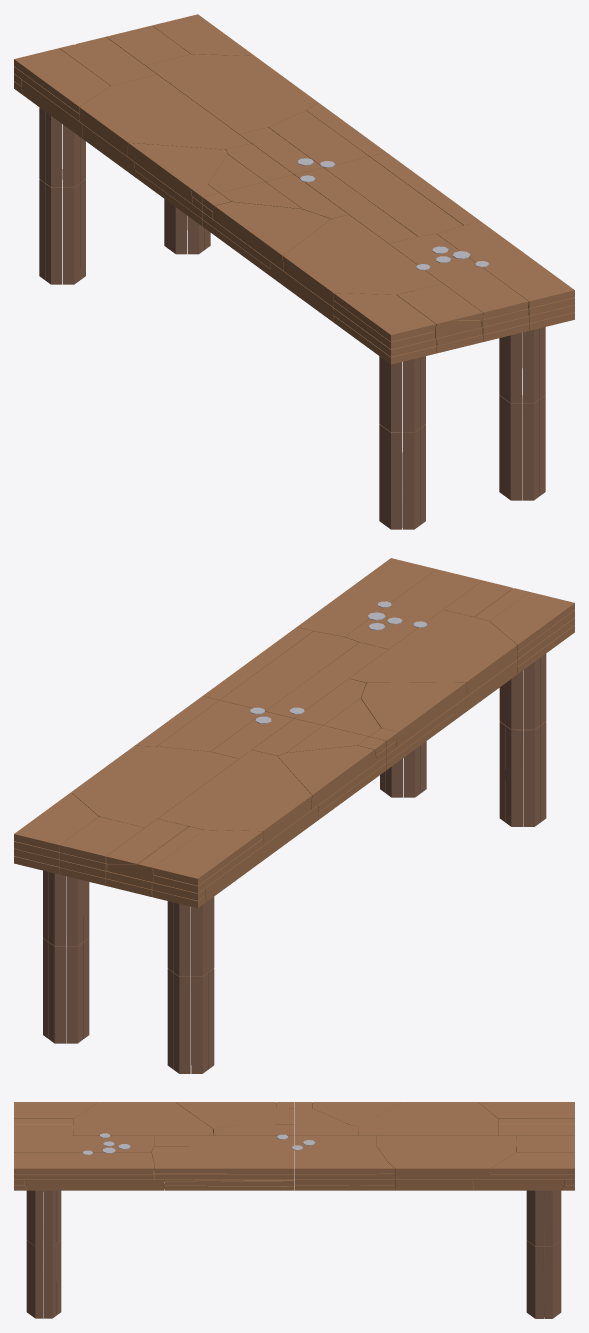
Rendered from TableCoinsBroken.fbx.
3 renders of one model, top to bottom at view 1: azimuth 30°, elevation 25°; view 2: azimuth 150°, elevation 25°; view 3: azimuth 270°, elevation 25°, orthographic. The views are drawn at different scales.
Parts seen in each view (by area): view 1: Cube.059_cell.003_cell.003, Cube.059_cell.001_cell.003, Cube.059_cell.007_cell.004, Cube.059_cell.005_cell, Cube.059_cell.005_cell.003, Cube.059_cell.005_cell.007, Cube.059_cell.001_cell.005, Cube.059_cell.003_cell.009, Cube.059_cell.003_cell.011, Cube.059_cell.001_cell.004, Cube.059_cell.005_cell.006, Cube.059_cell.007_cell.007 (+35 smaller); view 2: Cube.059_cell.001_cell.003, Cube.059_cell.003_cell.003, Cube.059_cell.007_cell.004, Cube.059_cell.005_cell.007, Cube.059_cell.005_cell, Cube.059_cell.001_cell.005, Cube.059_cell.005_cell.003, Cube.059_cell.003_cell.011, Cube.059_cell.003_cell.009, Cube.059_cell.005_cell.006, Cube.059_cell.007_cell.007, Cube.059_cell.001_cell.004 (+35 smaller); view 3: Cube.059_cell.007_cell.004, Cube.059_cell.003_cell.003, Cube.059_cell.001_cell.003, Cube.059_cell.005_cell, Cube.059_cell.005_cell.007, Cube.059_cell.005_cell.003, Cube.059_cell.001_cell.005, Cube.059_cell.005_cell.008, Cube.059_cell.004_cell.008, Cube.059_cell.007_cell.001, Cube.059_cell.005_cell.006, Cube.059_cell.003_cell.011 (+38 smaller).
Boxes of the visible parts, bbox=[...] form: Cube.059_cell.003_cell.003: bbox=[79, 74, 250, 155]; Cube.059_cell.001_cell.003: bbox=[283, 214, 442, 306]; Cube.059_cell.007_cell.004: bbox=[145, 54, 318, 134]; Cube.059_cell.005_cell: bbox=[437, 221, 574, 308]; Cube.059_cell.005_cell.003: bbox=[389, 234, 528, 319]; Cube.059_cell.005_cell.007: bbox=[324, 156, 462, 236]; Cube.059_cell.001_cell.005: bbox=[213, 202, 330, 270]; Cube.059_cell.003_cell.009: bbox=[127, 143, 227, 203]; Cube.059_cell.003_cell.011: bbox=[14, 48, 110, 113]; Cube.059_cell.001_cell.004: bbox=[333, 293, 435, 341]; Cube.059_cell.005_cell.006: bbox=[295, 168, 417, 243]; Cube.059_cell.007_cell.007: bbox=[268, 110, 368, 167]; Cube.059_cell.001_cell.003: bbox=[349, 610, 517, 695]; Cube.059_cell.003_cell.003: bbox=[158, 750, 311, 845]; Cube.059_cell.007_cell.004: bbox=[71, 745, 238, 827]; Cube.059_cell.005_cell.007: bbox=[220, 631, 358, 711]; Cube.059_cell.005_cell: bbox=[297, 558, 436, 636]; Cube.059_cell.001_cell.005: bbox=[361, 682, 467, 747]; Cube.059_cell.005_cell.003: bbox=[345, 569, 482, 649]; Cube.059_cell.003_cell.011: bbox=[153, 830, 262, 885]; Cube.059_cell.003_cell.009: bbox=[277, 745, 375, 809]; Cube.059_cell.005_cell.006: bbox=[266, 642, 388, 718]; Cube.059_cell.007_cell.007: bbox=[157, 700, 260, 751]; Cube.059_cell.001_cell.004: bbox=[490, 592, 574, 651]; Cube.059_cell.007_cell.004: bbox=[376, 1135, 516, 1179]; Cube.059_cell.003_cell.003: bbox=[358, 1102, 497, 1142]; Cube.059_cell.001_cell.003: bbox=[73, 1102, 213, 1145]; Cube.059_cell.005_cell: bbox=[14, 1152, 153, 1173]; Cube.059_cell.005_cell.007: bbox=[151, 1146, 294, 1171]; Cube.059_cell.005_cell.003: bbox=[14, 1135, 153, 1152]; Cube.059_cell.001_cell.005: bbox=[175, 1102, 276, 1135]; Cube.059_cell.005_cell.008: bbox=[154, 1162, 294, 1173]; Cube.059_cell.004_cell.008: bbox=[25, 1172, 164, 1190]; Cube.059_cell.007_cell.001: bbox=[490, 1152, 574, 1173]; Cube.059_cell.005_cell.006: bbox=[154, 1135, 294, 1146]; Cube.059_cell.003_cell.011: bbox=[478, 1102, 574, 1119].
Size of the model in its own units: 84.73 by 92.14 by 301.
